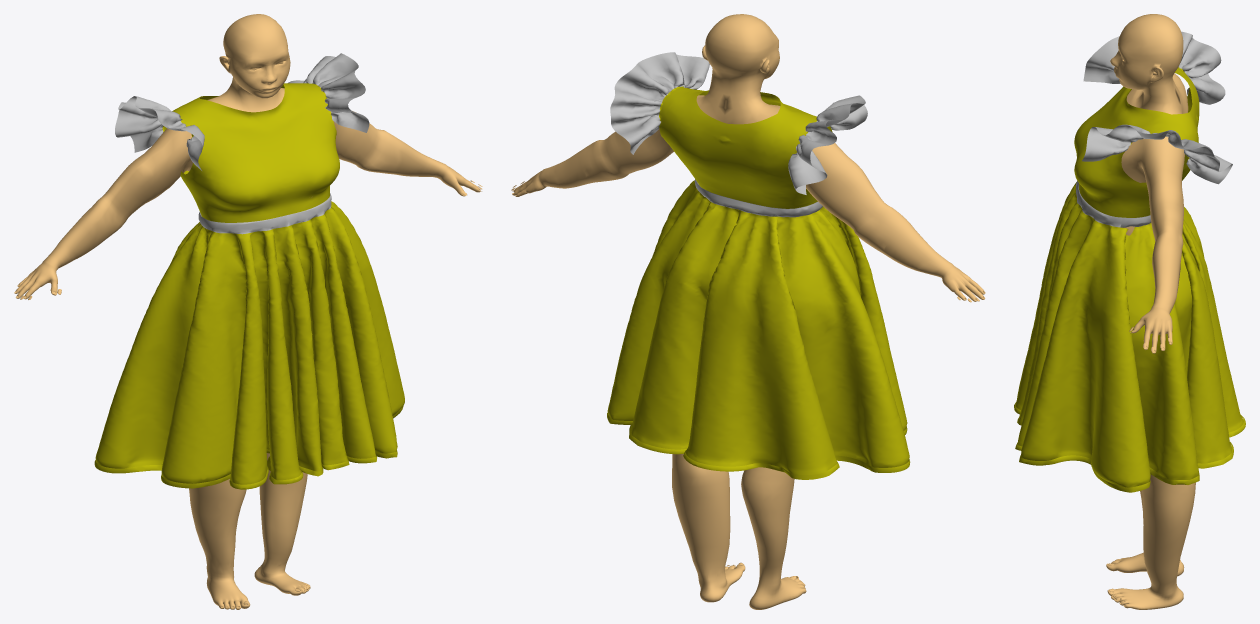
The model's file is dress10.glb.
The picture shows the model from 3 angles, left to right: view 1: azimuth 30°, elevation 25°; view 2: azimuth 150°, elevation 25°; view 3: azimuth 270°, elevation 25°; orthographic projection.
Visible parts, largest first — view 1: PinkDrees#14 (OBJ), Body; view 2: PinkDrees#14 (OBJ), Body; view 3: PinkDrees#14 (OBJ), Body.
Boxes of the visible parts, x1=… form: PinkDrees#14 (OBJ): x1=94, y1=53, x2=404, y2=489; Body: x1=14, y1=14, x2=481, y2=609; PinkDrees#14 (OBJ): x1=607, y1=52, x2=910, y2=479; Body: x1=512, y1=14, x2=985, y2=609; PinkDrees#14 (OBJ): x1=1014, y1=31, x2=1245, y2=492; Body: x1=1106, y1=14, x2=1195, y2=609.
Bounding box in the file's own units: 1.59 × 1.88 × 0.6849.
